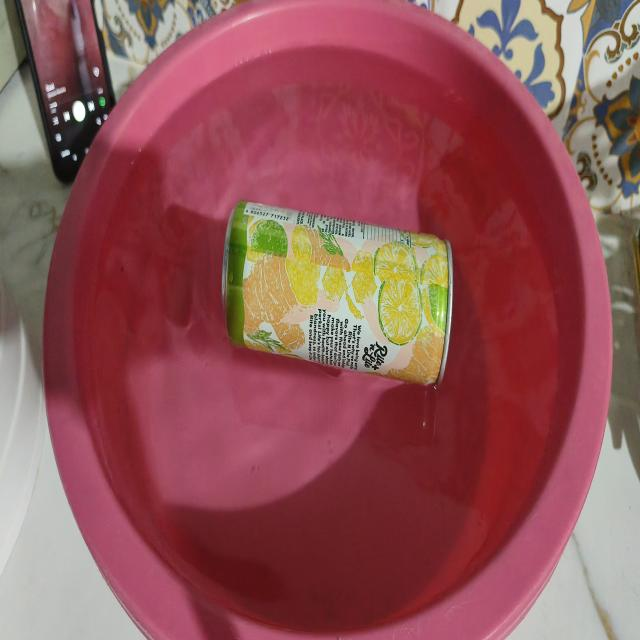Aluminum Can: (195, 183, 483, 411)
